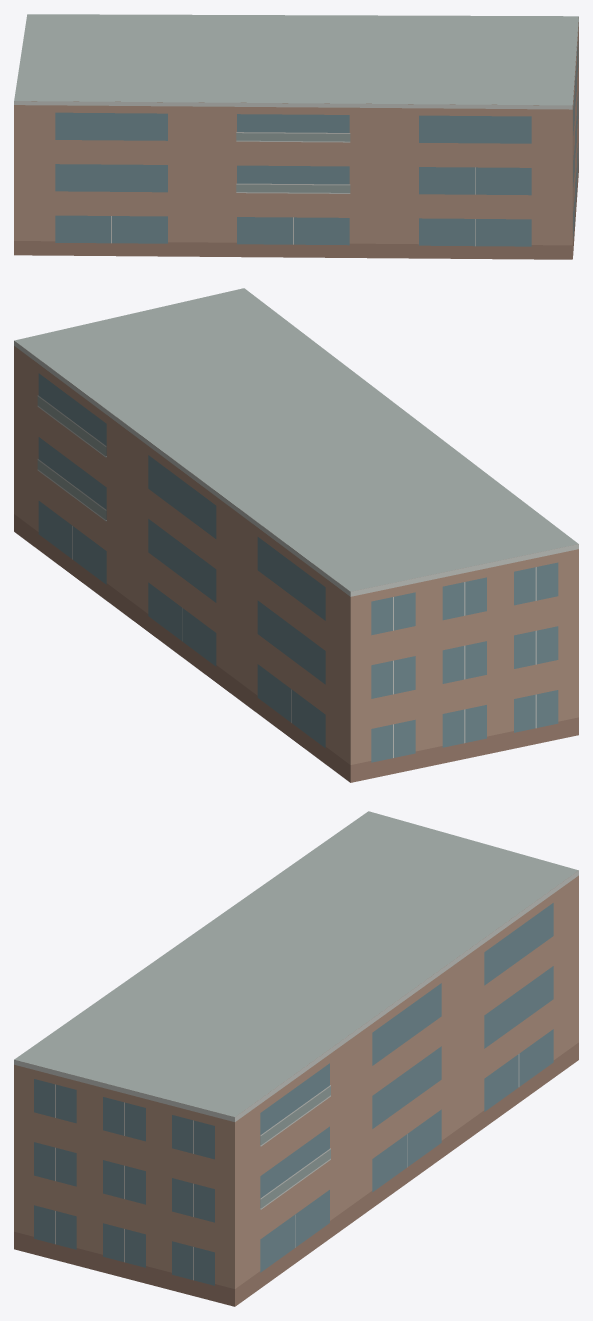
Rendered from survey-upis-32750480.glb.
The picture shows the model from 3 angles, top to bottom: view 1: azimuth 30°, elevation 25°; view 2: azimuth 150°, elevation 25°; view 3: azimuth 270°, elevation 25°; orthographic projection. The views are drawn at different scales.
Parts seen in each view (by area): view 1: survey-upis-32750480.tmp; view 2: survey-upis-32750480.tmp; view 3: survey-upis-32750480.tmp.
Boxes of the visible parts, box(x1,y1,x2,y2) form: survey-upis-32750480.tmp: box(14, 14, 578, 259); survey-upis-32750480.tmp: box(14, 288, 578, 782); survey-upis-32750480.tmp: box(14, 811, 578, 1306).
Bounding box in the file's own units: 31.68 × 9.15 × 24.71.
